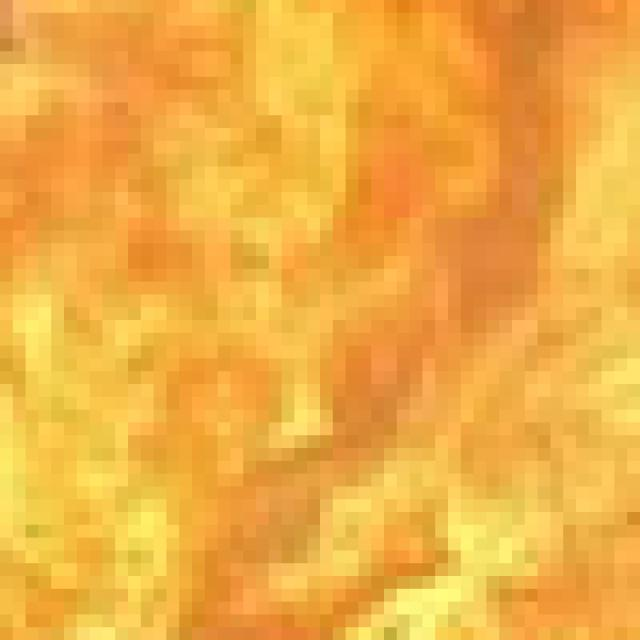fire: (9, 7, 633, 640)
